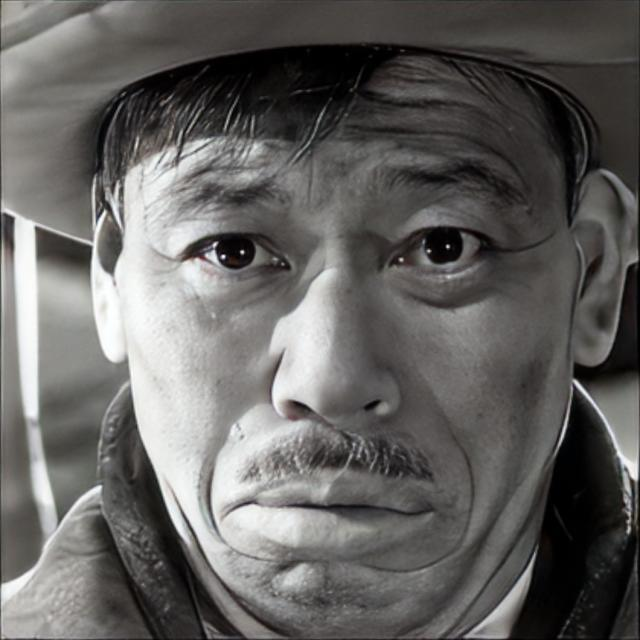sad: (122, 45, 574, 635)
